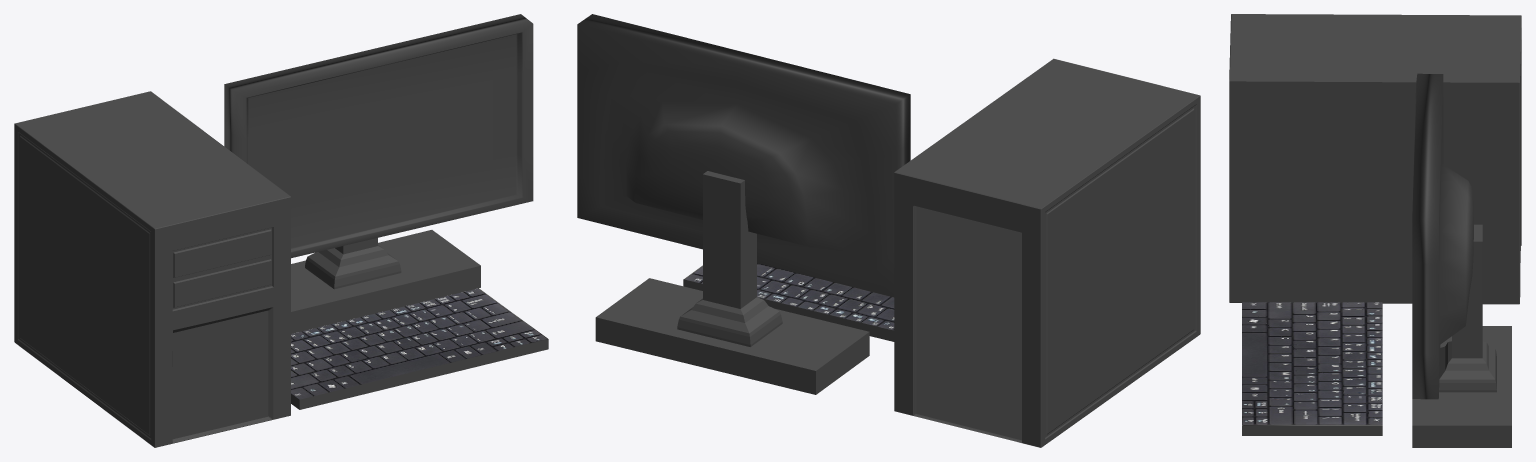
3 renders of one model, left to right at view 1: azimuth 30°, elevation 25°; view 2: azimuth 150°, elevation 25°; view 3: azimuth 270°, elevation 25°, orthographic. The views are drawn at different scales.
Visible parts, largest first — view 1: ComputerMesh, MonitorMesh, KeyboardMesh; view 2: ComputerMesh, MonitorMesh, KeyboardMesh; view 3: ComputerMesh, MonitorMesh, KeyboardMesh.
Part boxes in pixels (x1,y1,x2,y2): ComputerMesh: (14, 91, 290, 447); MonitorMesh: (224, 14, 533, 333); KeyboardMesh: (291, 288, 548, 409); ComputerMesh: (894, 58, 1200, 447); MonitorMesh: (577, 14, 910, 394); KeyboardMesh: (683, 263, 894, 341); ComputerMesh: (1229, 14, 1521, 304); MonitorMesh: (1412, 73, 1511, 447); KeyboardMesh: (1242, 302, 1382, 435).
Size of the model in its own units: 1.33 by 0.6797 by 0.7082.
3 materials, 1 textured.
